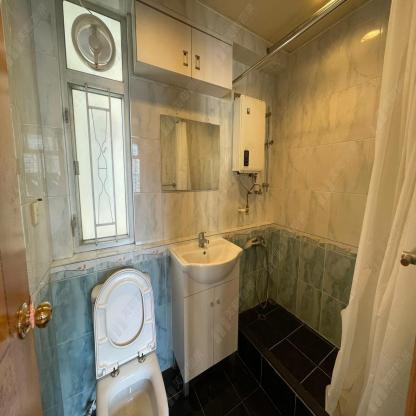Exhaust Fan: (64, 5, 123, 79)
Toilet: (90, 266, 168, 416)
Toilet Sink: (169, 235, 243, 284)
Water Cubicle: (237, 297, 340, 416)
Water Heater: (232, 94, 266, 173)
